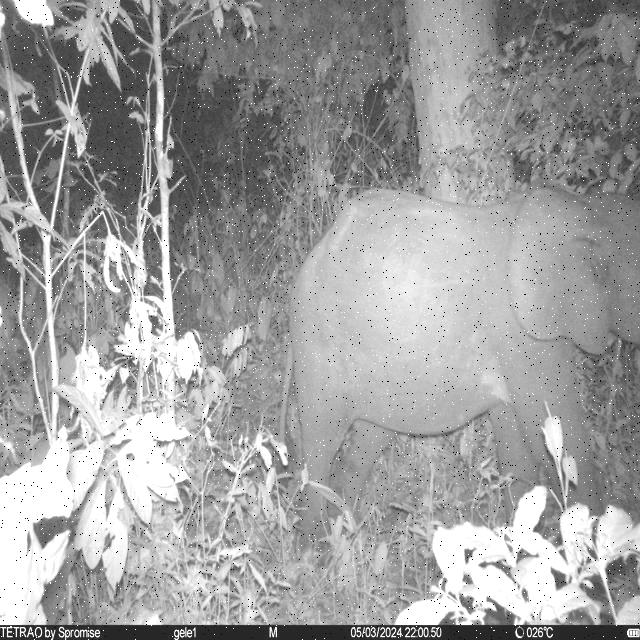calf: (283, 180, 640, 536)
ear: (505, 185, 610, 356)
